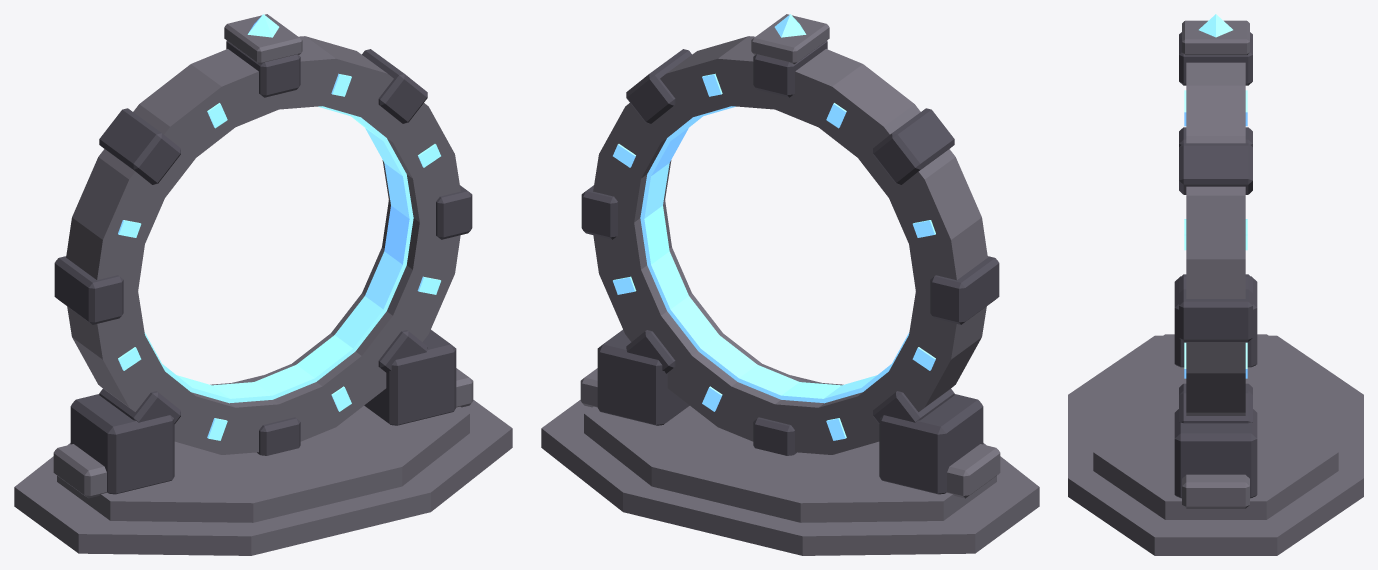
Rendered from env_portal.glb.
3 renders of one model, left to right at view 1: azimuth 30°, elevation 25°; view 2: azimuth 150°, elevation 25°; view 3: azimuth 270°, elevation 25°, orthographic. The views are drawn at different scales.
Visible parts, largest first — view 1: env_portal; view 2: env_portal; view 3: env_portal.
Part boxes in pixels (bbox=[...]): env_portal: bbox=[14, 14, 512, 555]; env_portal: bbox=[541, 14, 1039, 555]; env_portal: bbox=[1068, 14, 1363, 555].
Size of the model in its own units: 3.23 by 3.3 by 2.
